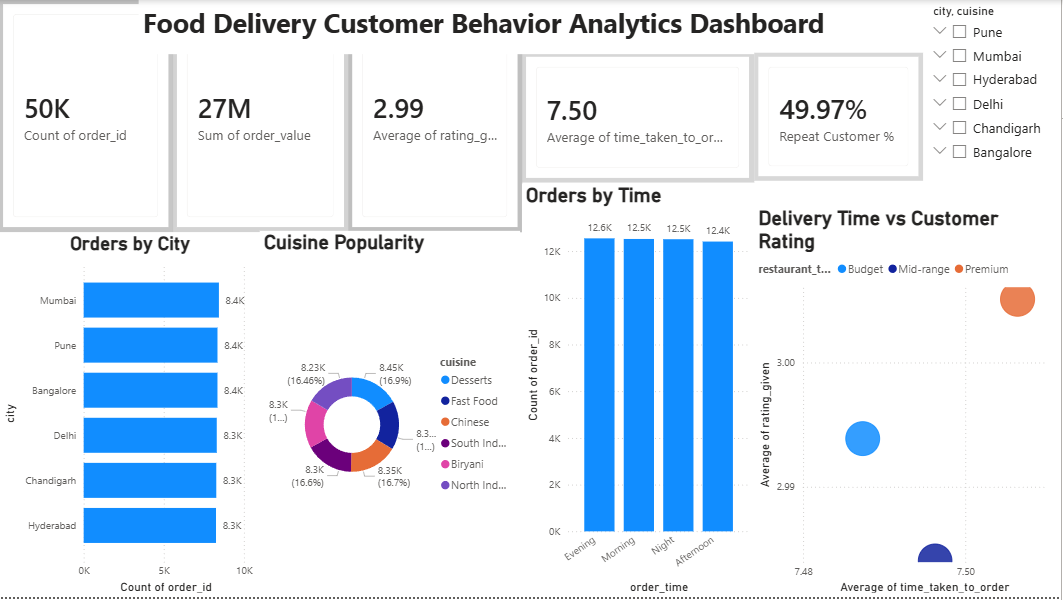

This screenshot's page, from the dashboard's own definition file:
{"tool":"powerbi","page":{"name":"Page 1","canvas":[1280,720],"ordinal":0},"visuals":[{"type":"cardVisual","fields":{"Data":["CountNonNull(food_ordering_behavior_dataset mdim.order_id)"]},"box":[0,0,209.5,280],"z":0},{"type":"cardVisual","fields":{"Data":["Sum(food_ordering_behavior_dataset mdim.order_value)"]},"box":[209.5,0,211.3,280],"z":1000},{"type":"cardVisual","fields":{"Data":["Avg(food_ordering_behavior_dataset mdim.rating_given)"]},"box":[420.8,0,209.5,280],"z":2000},{"type":"cardVisual","fields":{"Data":["Avg(food_ordering_behavior_dataset mdim.time_taken_to_order)"]},"box":[630.3,63.5,280,156.3],"z":3000},{"type":"textbox","box":[168.3,0,945,65],"z":4000},{"type":"clusteredBarChart","title":"Orders by City","fields":{"Category":["food_ordering_behavior_dataset mdim.city"],"Y":["CountNonNull(food_ordering_behavior_dataset mdim.order_id)"]},"box":[0,280,316,439.7],"z":5000},{"type":"donutChart","title":"Cuisine Popularity","fields":{"Category":["food_ordering_behavior_dataset mdim.cuisine"],"Y":["CountNonNull(food_ordering_behavior_dataset mdim.order_id)"]},"box":[315,278.3,313.3,440],"z":6000},{"type":"columnChart","title":"Orders by Time","fields":{"Category":["food_ordering_behavior_dataset mdim.order_time"],"Y":["CountNonNull(food_ordering_behavior_dataset mdim.order_id)"]},"box":[630.3,221.6,280,498.1],"z":7000},{"type":"slicer","fields":{"Values":["food_ordering_behavior_dataset mdim.city","food_ordering_behavior_dataset mdim.cuisine"]},"box":[1113.6,0,166.1,206.8],"z":8000},{"type":"scatterChart","title":"Delivery Time vs Customer Rating","fields":{"X":["Avg(food_ordering_behavior_dataset mdim.time_taken_to_order)"],"Y":["Avg(food_ordering_behavior_dataset mdim.rating_given)"],"Size":["Sum(food_ordering_behavior_dataset mdim.order_value)"],"Series":["food_ordering_behavior_dataset mdim.restaurant_type"]},"box":[910.3,249,369.3,470.6],"z":9000},{"type":"cardVisual","fields":{"Data":["food_ordering_behavior.Repeat Customer %"]},"box":[910.2,64.4,203.4,154.2],"z":9001}]}

Visuals, with their boxes in screenshot pixels (x1, y1, x2, y2), scaled from the page's 1280x720 canvas onto the 1063x600 screenshot:
cardVisual - CountNonNull(food_ordering_behavior_dataset mdim.order_id): bbox=(0, 0, 174, 233)
cardVisual - Sum(food_ordering_behavior_dataset mdim.order_value): bbox=(174, 0, 349, 233)
cardVisual - Avg(food_ordering_behavior_dataset mdim.rating_given): bbox=(349, 0, 523, 233)
cardVisual - Avg(food_ordering_behavior_dataset mdim.time_taken_to_order): bbox=(523, 53, 756, 183)
textbox: bbox=(140, 0, 925, 54)
"Orders by City" clusteredBarChart: bbox=(0, 233, 262, 599)
"Cuisine Popularity" donutChart: bbox=(262, 232, 522, 599)
"Orders by Time" columnChart: bbox=(523, 185, 756, 599)
slicer - food_ordering_behavior_dataset mdim.city x food_ordering_behavior_dataset mdim.cuisine: bbox=(925, 0, 1062, 172)
"Delivery Time vs Customer Rating" scatterChart: bbox=(756, 208, 1062, 599)
cardVisual - food_ordering_behavior.Repeat Customer %: bbox=(756, 54, 925, 182)
